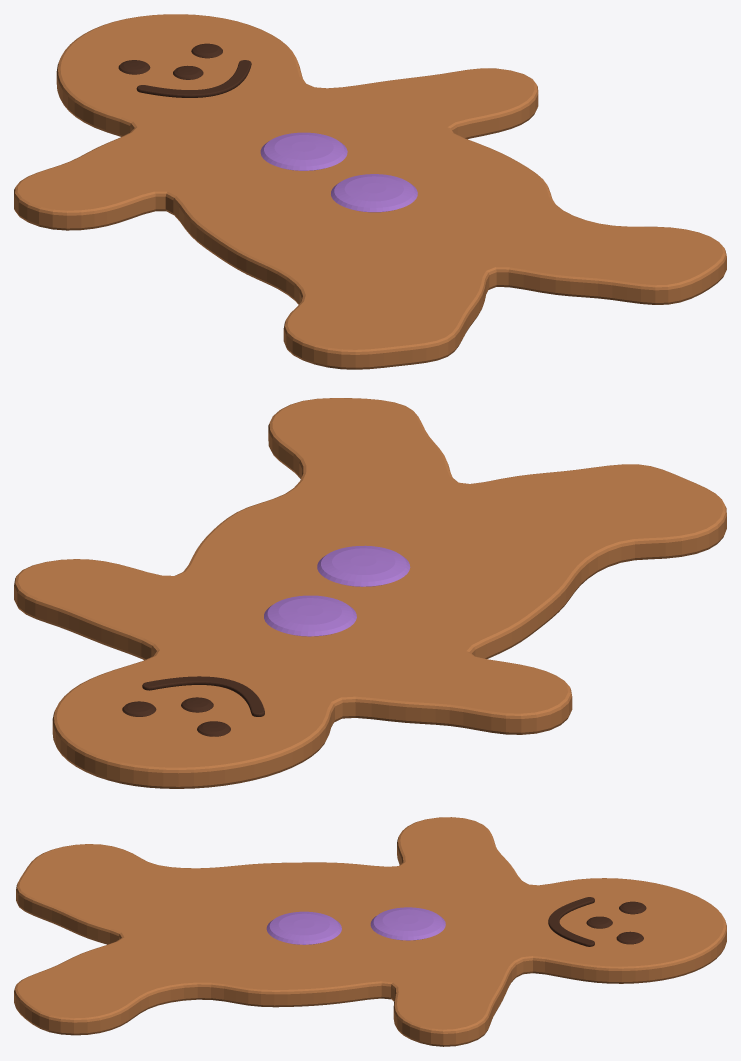
The model's file is NEW587_gingerbread_man_LOD0.glb.
3 views of the same model, one above another, from view 1: azimuth 30°, elevation 25°; view 2: azimuth 150°, elevation 25°; view 3: azimuth 270°, elevation 25° (orthographic). The views are drawn at different scales.
Visible parts, largest first — view 1: Continuous baked biscuit, Upper lentil button, Lower lentil button, Shallow curved chocolate smile; view 2: Continuous baked biscuit, Upper lentil button, Lower lentil button, Shallow curved chocolate smile; view 3: Continuous baked biscuit, Lower lentil button, Upper lentil button, Shallow curved chocolate smile.
Boxes of the visible parts, x1,y1,x2,y2 form: Continuous baked biscuit: [14, 14, 726, 369]; Upper lentil button: [260, 132, 347, 170]; Lower lentil button: [331, 174, 417, 212]; Shallow curved chocolate smile: [136, 60, 251, 97]; Continuous baked biscuit: [14, 398, 726, 788]; Upper lentil button: [264, 595, 356, 636]; Lower lentil button: [317, 545, 410, 586]; Shallow curved chocolate smile: [142, 676, 264, 716]; Continuous baked biscuit: [14, 817, 726, 1046]; Lower lentil button: [266, 911, 341, 944]; Upper lentil button: [370, 907, 445, 940]; Shallow curved chocolate smile: [548, 897, 594, 946].
Bounding box in the file's own units: 0.1 × 0.005 × 0.14.
